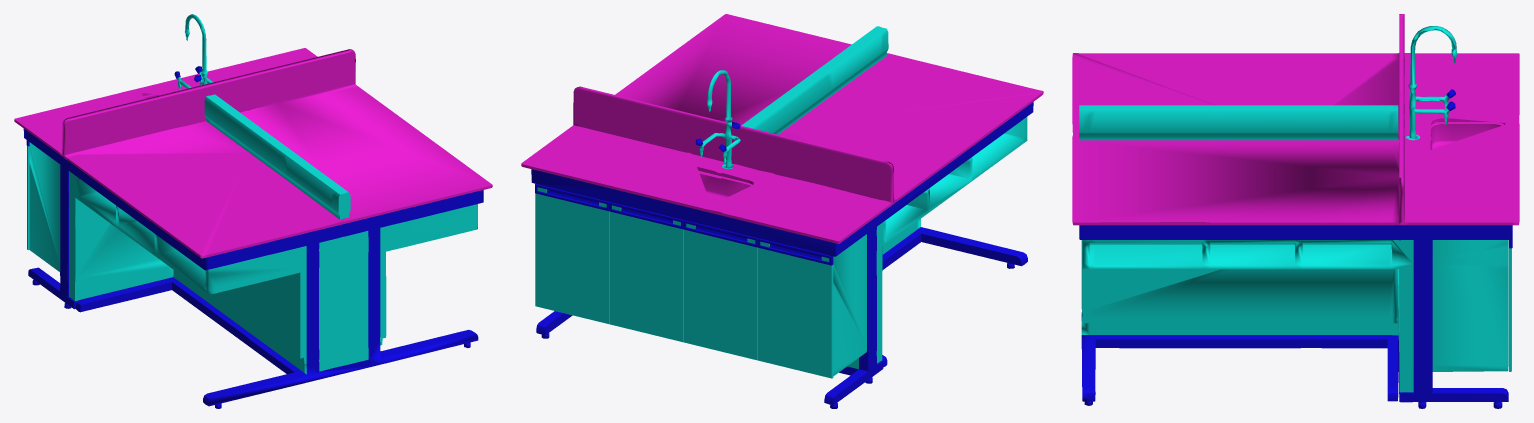
The model's file is 20240312實驗桌.fbx.
3 views of the same model, side by side, from view 1: azimuth 30°, elevation 25°; view 2: azimuth 150°, elevation 25°; view 3: azimuth 270°, elevation 25° (orthographic). The views are drawn at different scales.
Parts seen in each view (by area): view 1: 香皂_立方體.002; view 2: 香皂_立方體.002; view 3: 香皂_立方體.002.
Boxes of the visible parts, x1,y1,x2,y2 form: 香皂_立方體.002: (14,14,492,408); 香皂_立方體.002: (521,14,1043,408); 香皂_立方體.002: (1072,14,1519,408).
Size of the model in its own units: 359 by 301 by 401.
